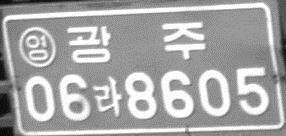0: (197, 69, 230, 116), (23, 75, 55, 123)
5: (235, 66, 269, 116)
6: (160, 70, 195, 119), (57, 73, 91, 121)
8: (123, 71, 157, 120)
광주_D: (65, 21, 206, 63)
라: (92, 76, 122, 117)
영: (17, 26, 56, 68)
